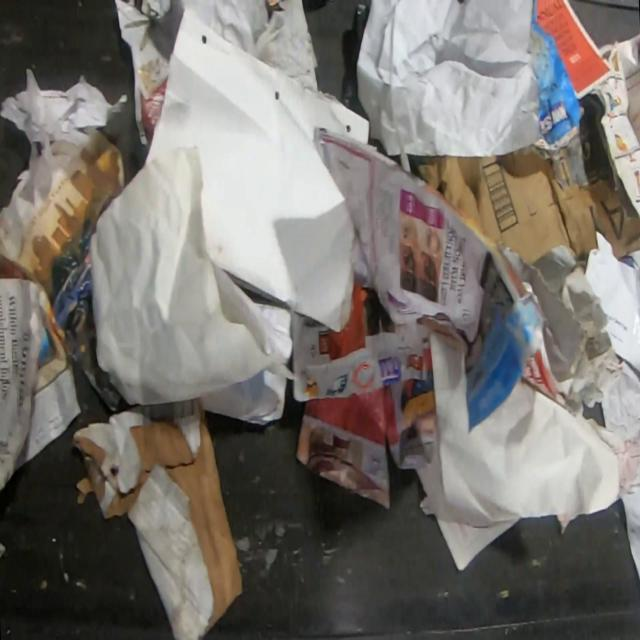cardboard: (69, 395, 245, 639), (417, 94, 640, 267), (516, 247, 623, 409), (527, 0, 586, 150)
soft_plastic: (209, 0, 319, 79)
